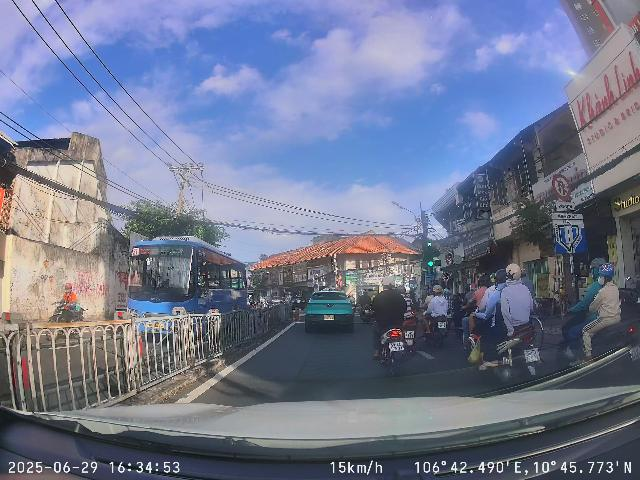124b-cam-oto-quay-dau-xe: (552, 173, 572, 200)
